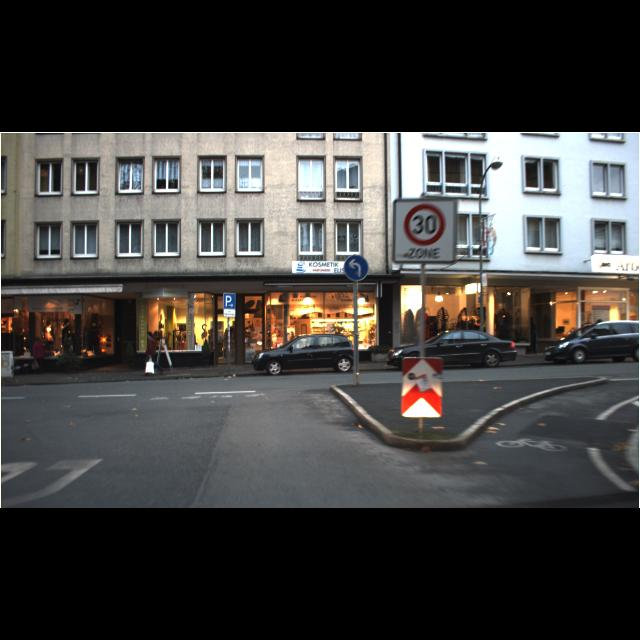mandatory: (344, 255, 368, 281)
prohibitory: (404, 203, 444, 245)
